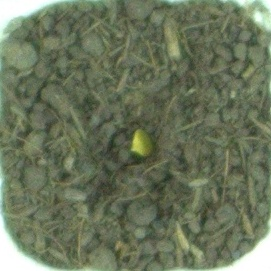chilli seed: (129, 128, 155, 159)
